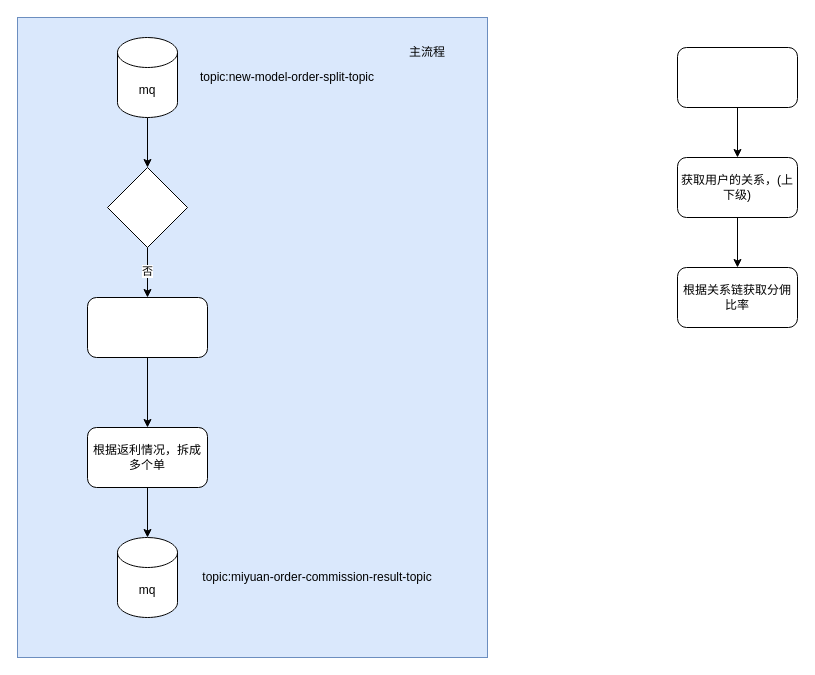
This 815x675 diagram has some shape labels left out. The box of each missing label's shape, as (x1, y1, x2, y2) in pixels:
是否首单?: (106, 166, 188, 248)
根据channel获取税率: (676, 46, 798, 108)
返利计算: (86, 296, 208, 358)
